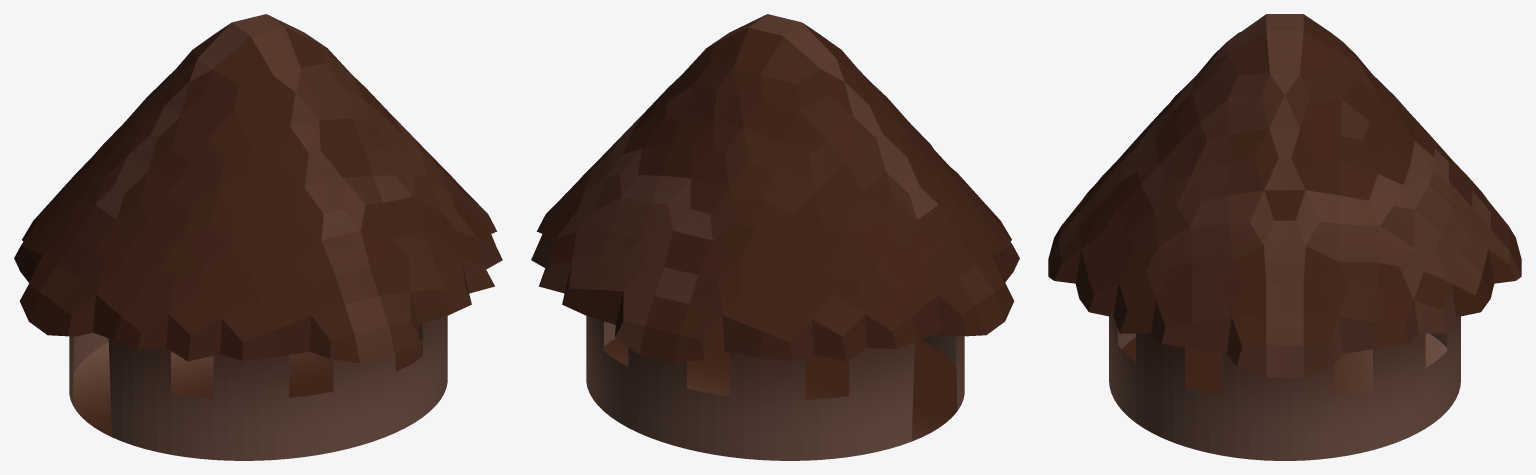
File: ocas pequena1.fbx
The picture shows the model from 3 angles, left to right: view 1: azimuth 30°, elevation 25°; view 2: azimuth 150°, elevation 25°; view 3: azimuth 270°, elevation 25°; orthographic projection.
Parts seen in each view (by area): view 1: Cone.004, Cylinder.003; view 2: Cone.004, Cylinder.003; view 3: Cone.004, Cylinder.003.
Part boxes in pixels (x1,y1,x2,y2): Cone.004: [14, 14, 502, 363]; Cylinder.003: [69, 316, 447, 460]; Cone.004: [531, 14, 1019, 363]; Cylinder.003: [586, 316, 964, 460]; Cone.004: [1048, 14, 1521, 377]; Cylinder.003: [1109, 316, 1460, 460].
Bounding box in the file's own units: 270 × 211 × 253.
Materials: 2 (2 with a texture image).
